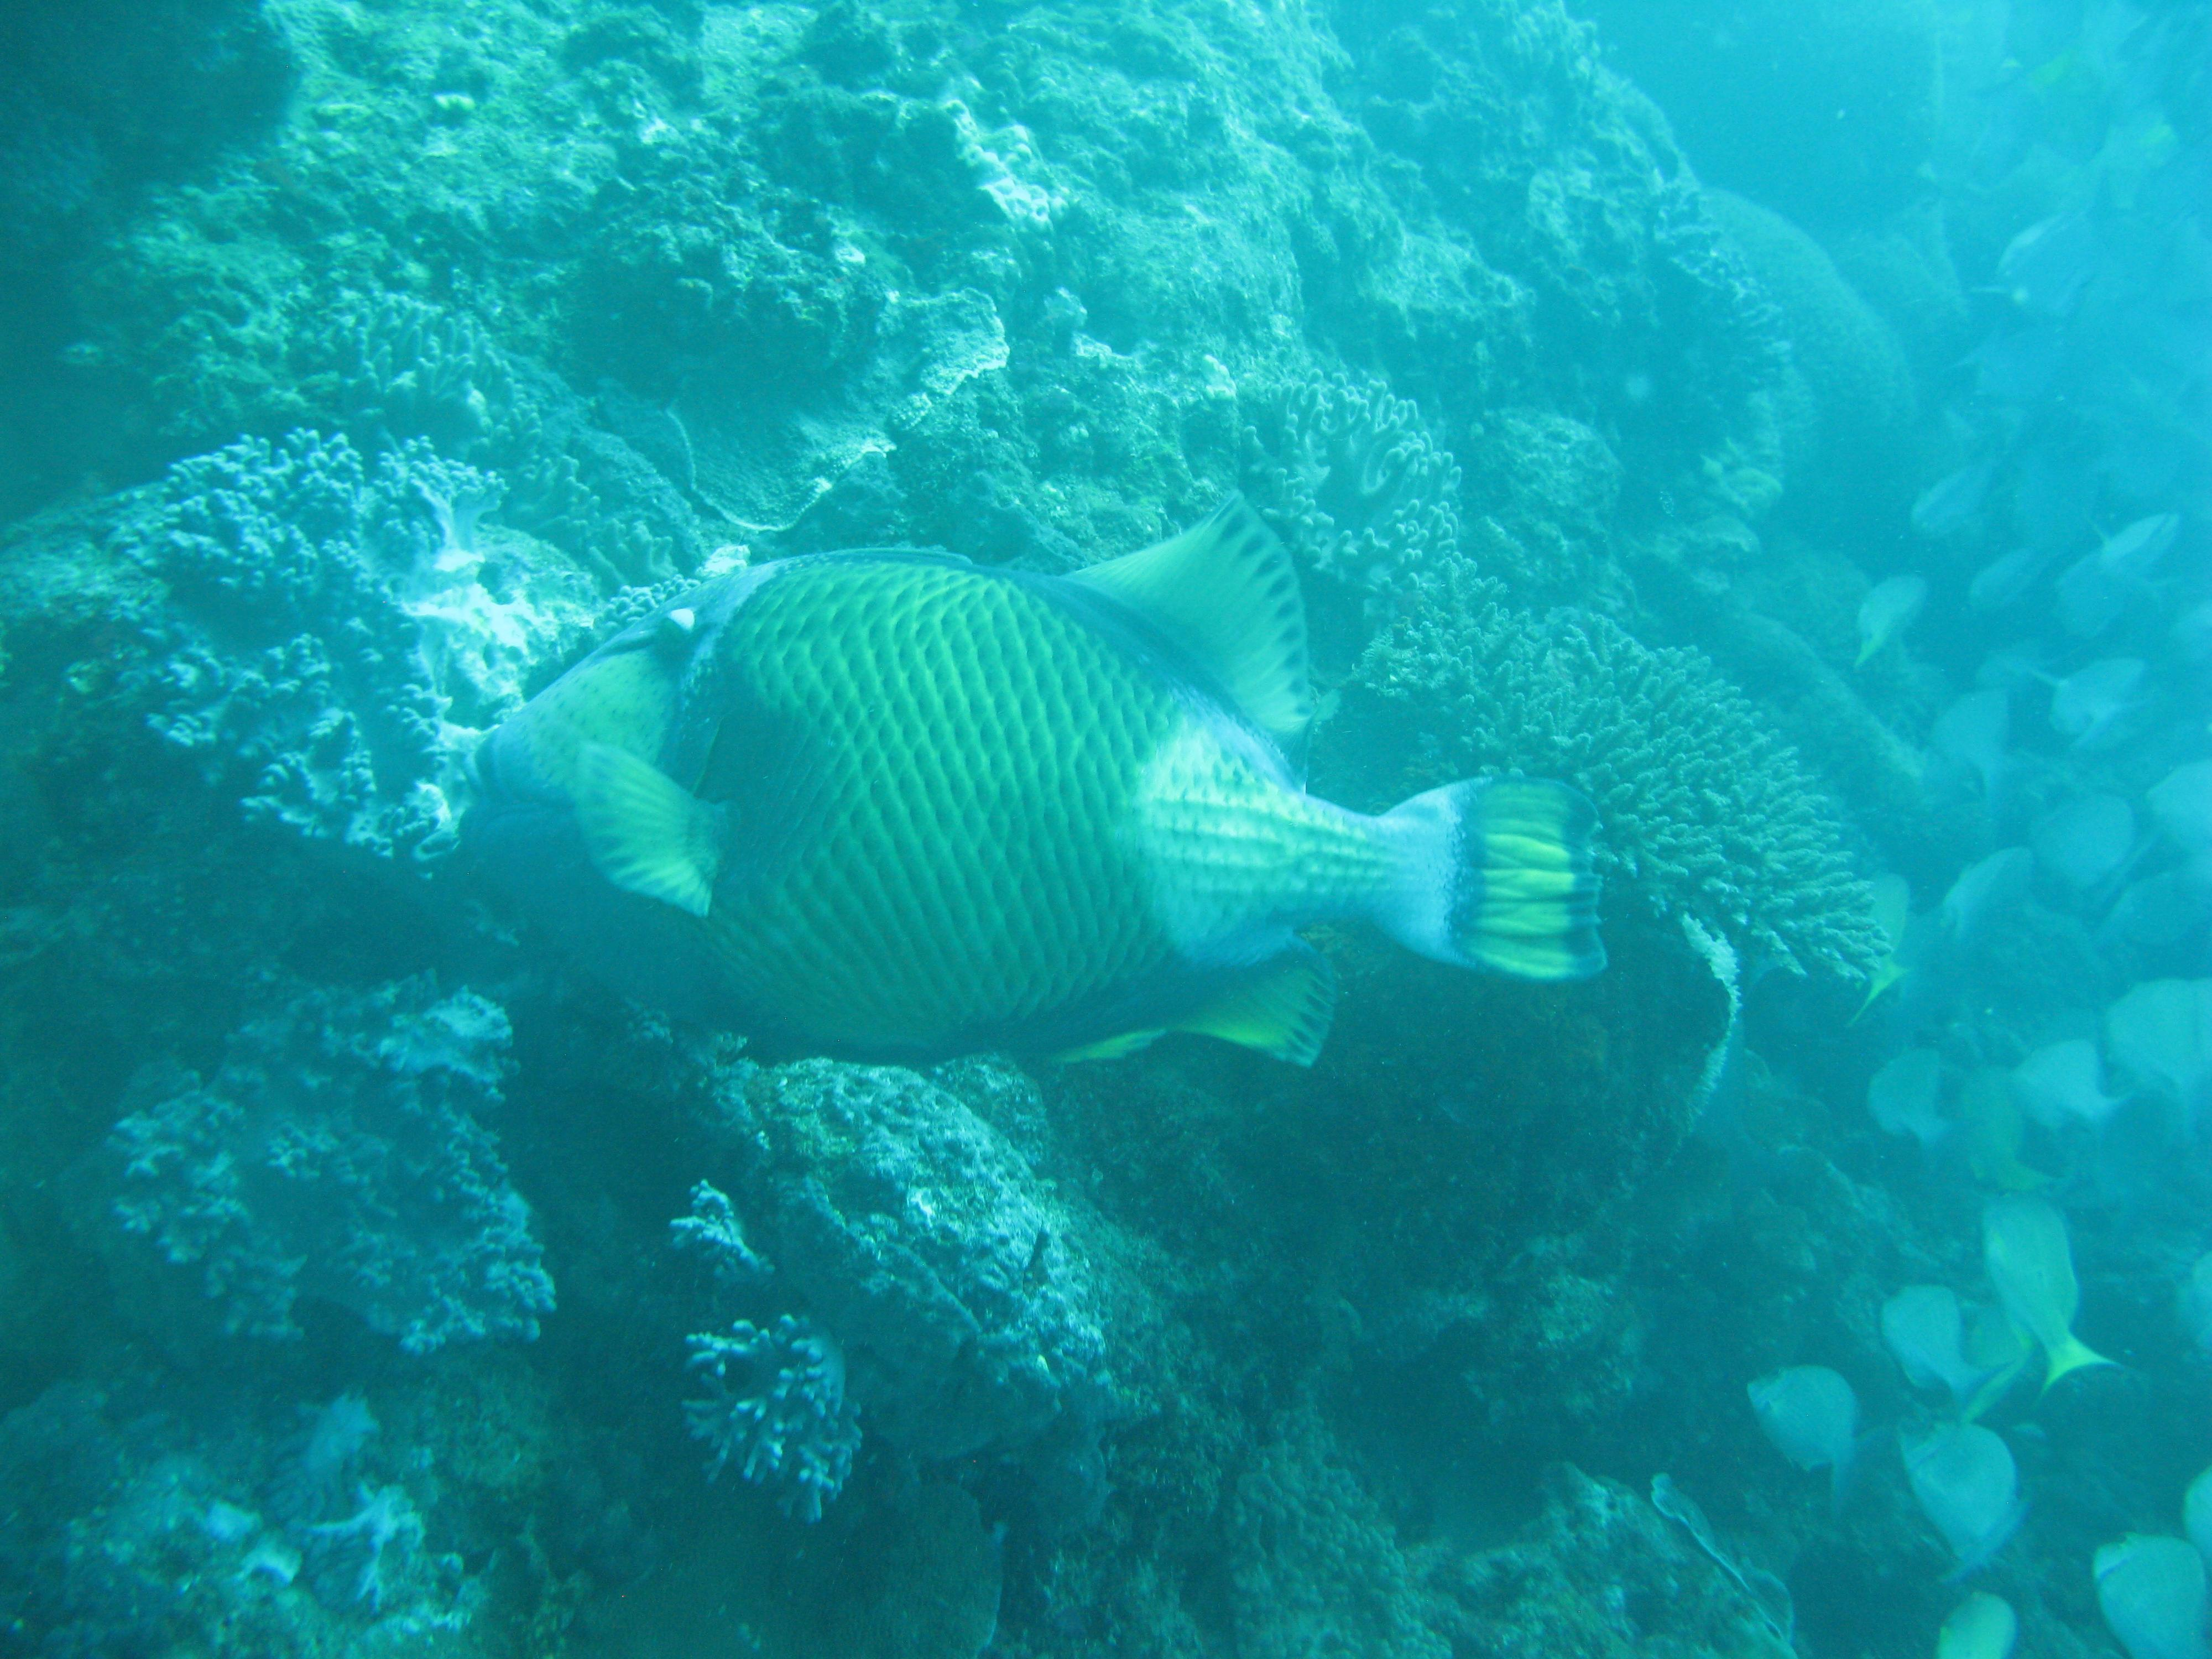Fish: (442, 472, 1613, 1089)
